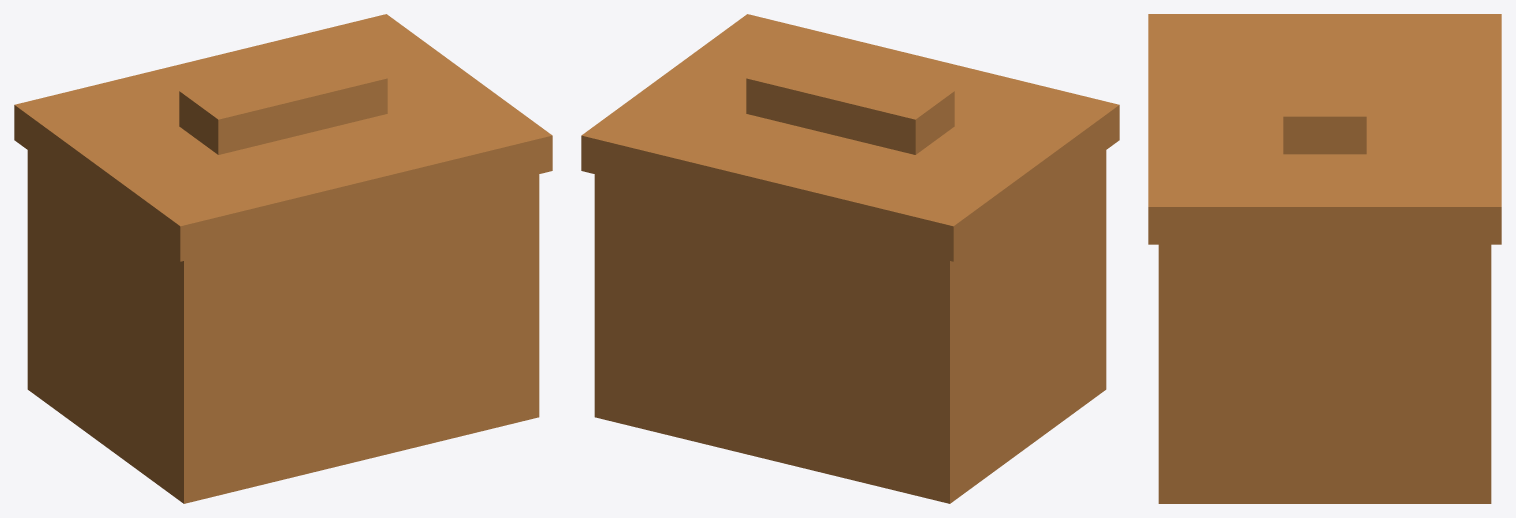
The model's file is product_grill_carton.glb.
The picture shows the model from 3 angles, left to right: view 1: azimuth 30°, elevation 25°; view 2: azimuth 150°, elevation 25°; view 3: azimuth 270°, elevation 25°; orthographic projection. The views are drawn at different scales.
Parts seen in each view (by area): view 1: product.grill_carton; view 2: product.grill_carton; view 3: product.grill_carton.
Boxes of the visible parts, box(x1,y1,x2,y2) form: product.grill_carton: box(14, 14, 552, 503); product.grill_carton: box(581, 14, 1119, 503); product.grill_carton: box(1148, 14, 1501, 503).
Bounding box in the file's own units: 0.24 × 0.1964 × 0.1855.
